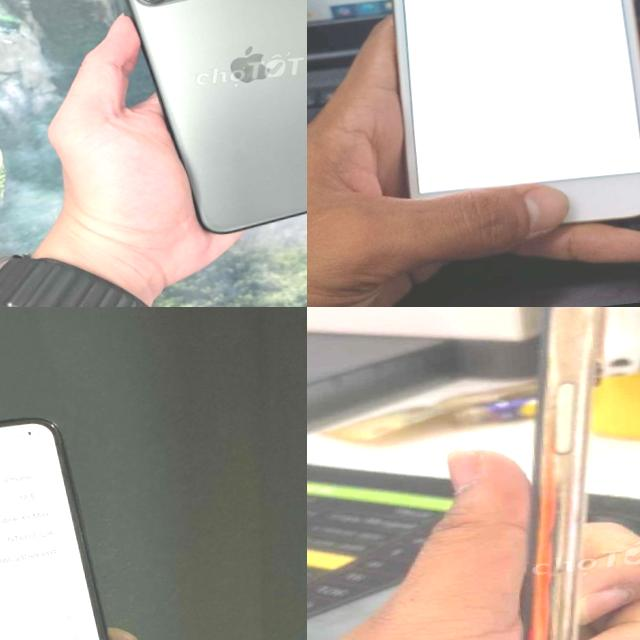gen_11: (109, 0, 307, 249)
gen_7_8: (348, 0, 640, 259)
gen_x_xs: (0, 393, 157, 640), (521, 307, 603, 640)
